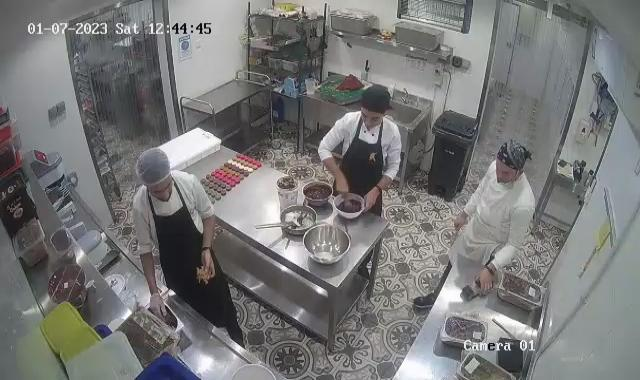hairnet: (136, 146, 174, 191)
no_hairnet: (357, 84, 391, 120), (496, 140, 524, 179)
